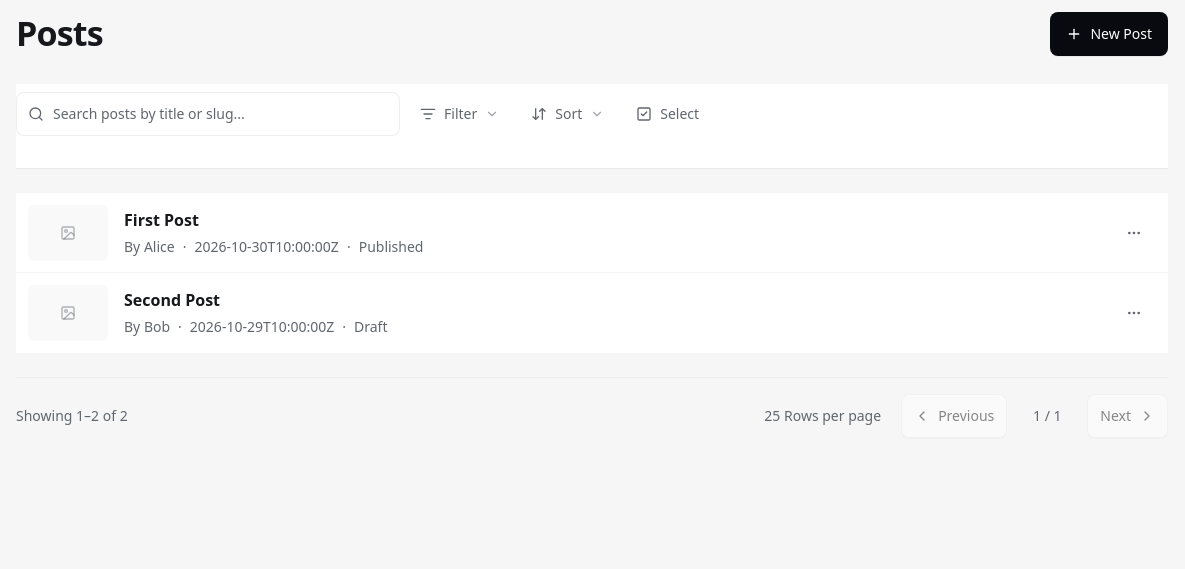
Scenario: Editorial Selection System — Posts and Pages lifecycle & stability › PostsList selection lifecycle › starts with selection mode OFF, toggles to Done, selects items, and exits cleanly
The width and height of the screenshot is (1185, 569).
Click the button "Select". click: (668, 114)
box: [624,92,711,136]
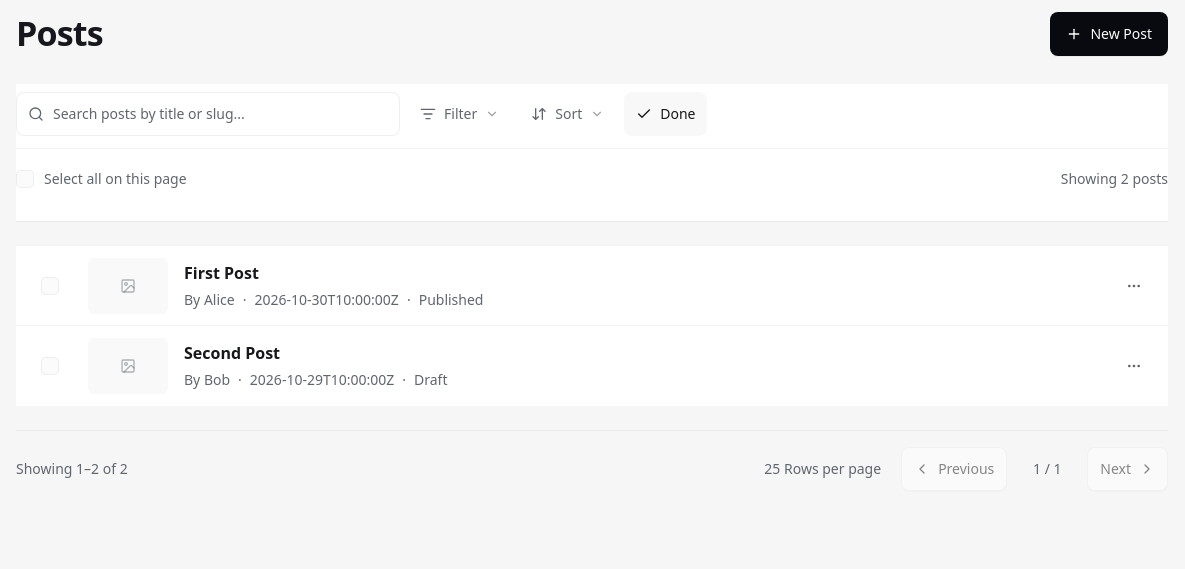
Check: the button "Done" is pressed, box [624,92,708,136]
Click row to toggle selection
Click the heading "First Post". click: (221, 272)
box: [184,262,259,284]
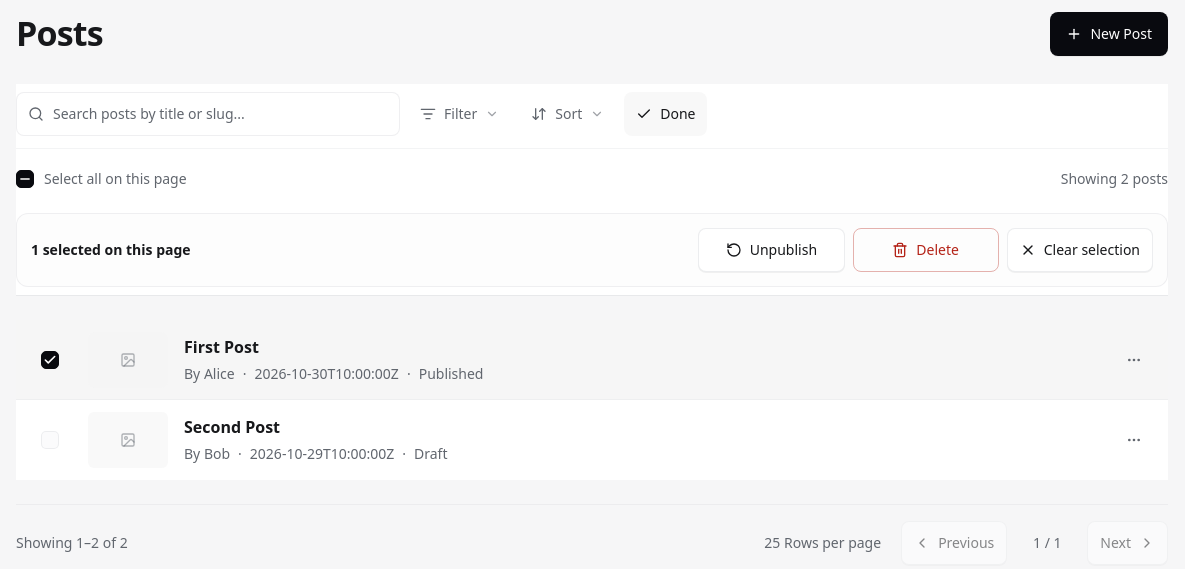
Check: the element named "Bulk actions" shows "1 selected on this page", box [16,213,1168,287]
Exit selection mode via Done
Click the button "Done". click: (666, 114)
box: [624,92,708,136]
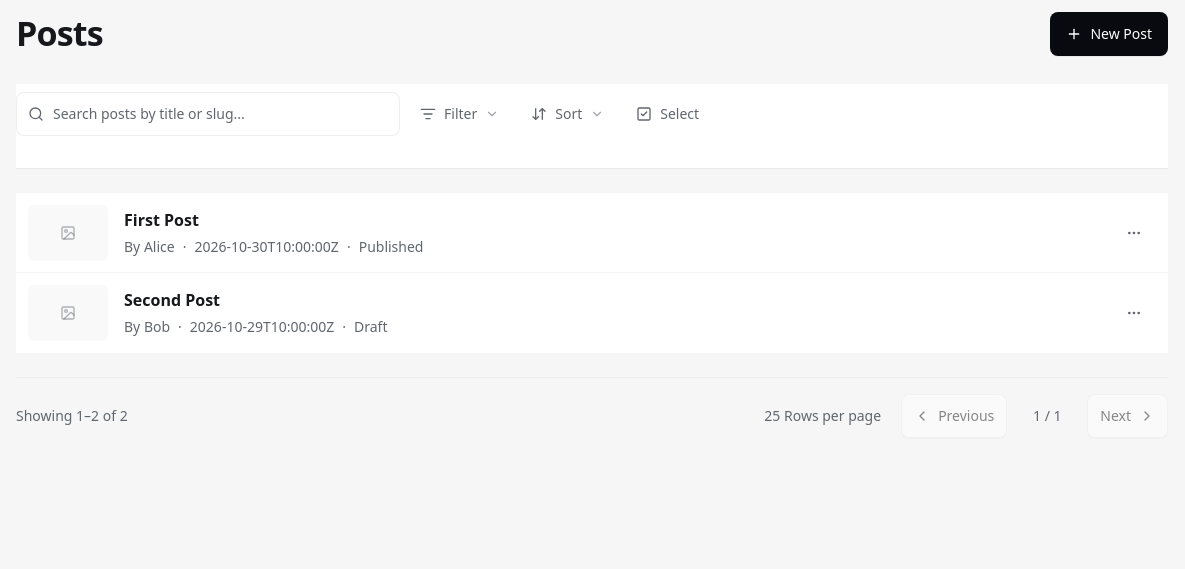
Check: the checkbox is gone
